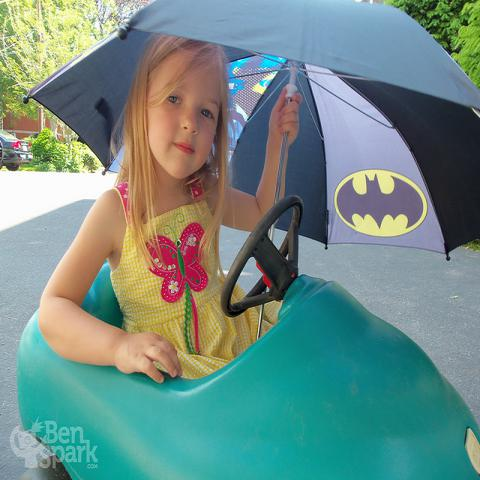car: (0, 128, 33, 172)
